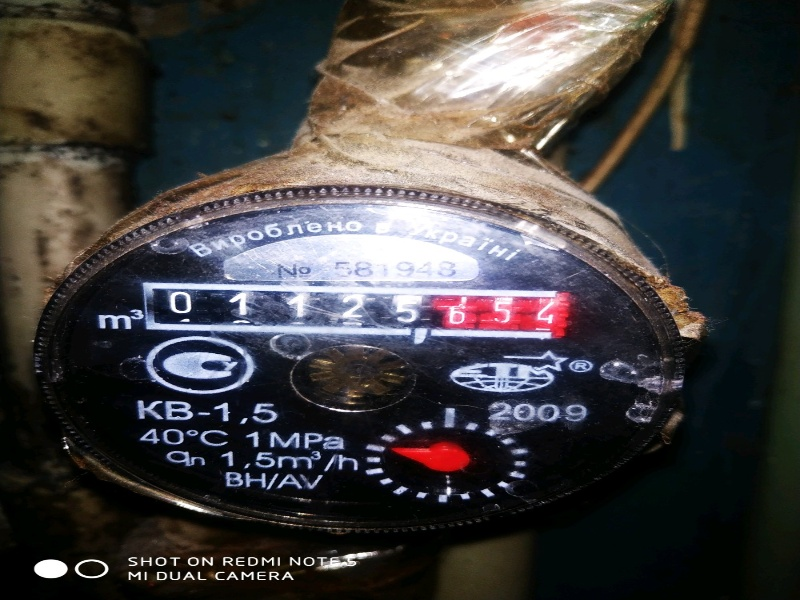meter: (146, 279, 578, 342)
